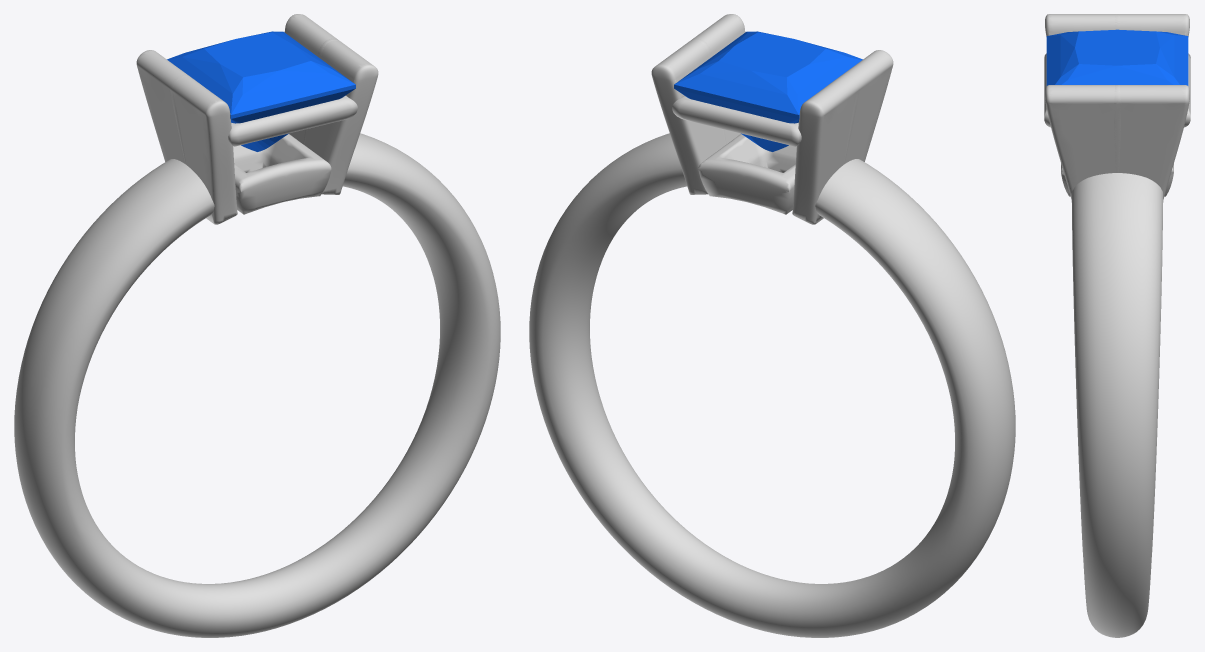
Rendered from bluesapphire-princess-platinum-halfmoonbezel-taperedband-solitaire.glb.
The picture shows the model from 3 angles, left to right: view 1: azimuth 30°, elevation 25°; view 2: azimuth 150°, elevation 25°; view 3: azimuth 270°, elevation 25°; orthographic projection.
Visible parts, largest first — view 1: metal, stone; view 2: metal, stone; view 3: metal, stone.
Part boxes in pixels (x1,y1,x2,y2): metal: (14,14,500,637); stone: (167,31,355,151); metal: (529,14,1015,637); stone: (674,31,862,151); metal: (1044,14,1190,637); stone: (1046,29,1188,85).
Size of the model in its own units: 20.5 by 23.85 by 5.6.
